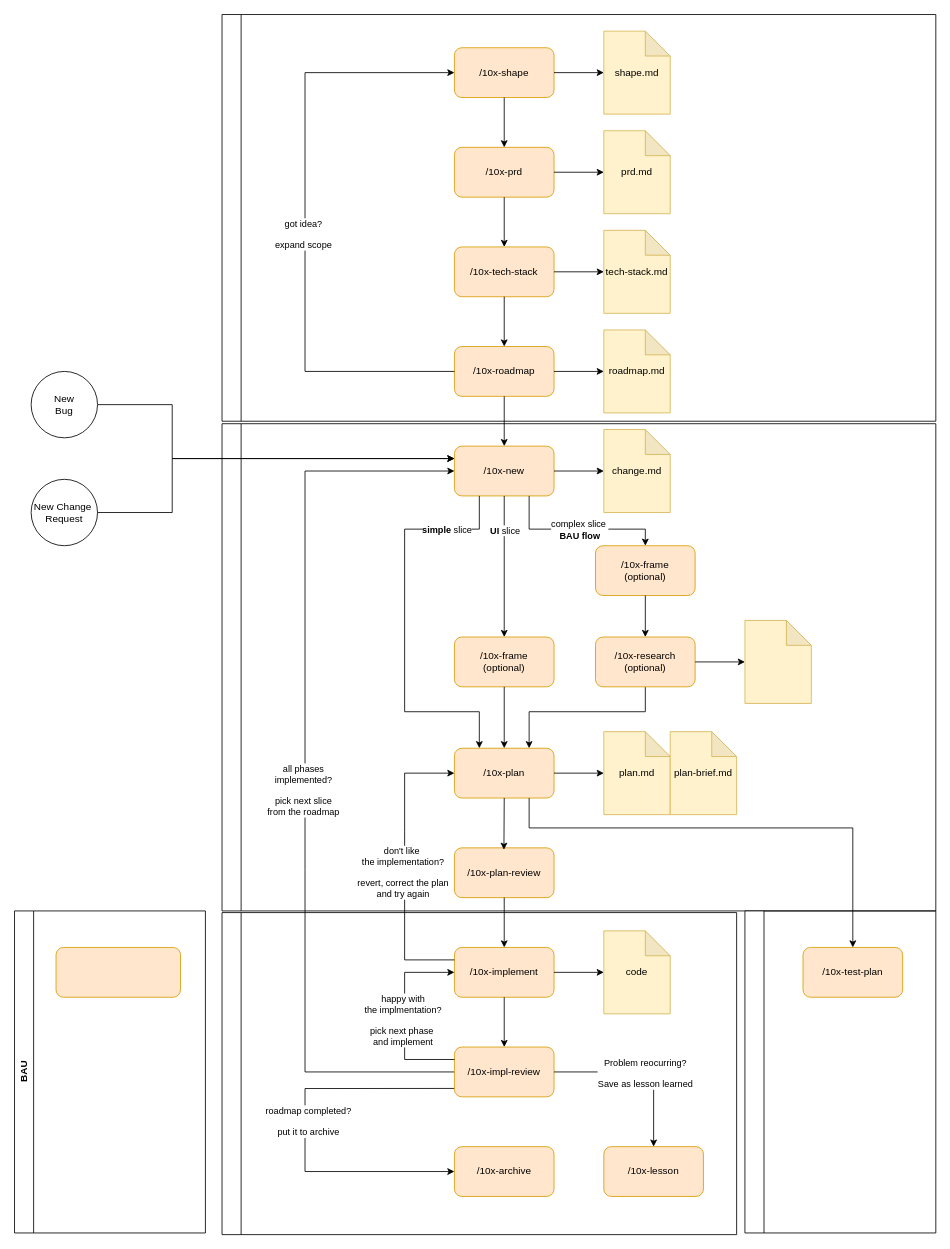
Image size: 950x1249. Some labels were removed from this diagram. The shapes that lost their labels are listed below. From the top down, each one's box as (x1, y1, x2, y2) in pixels, then its label:
(221, 14, 936, 421): Baselining
(221, 423, 936, 911): Design
(744, 620, 811, 703): research.md
(55, 947, 181, 997): /10x-observability-audit
(221, 912, 737, 1235): Implementation
(744, 910, 936, 1233): Testing
